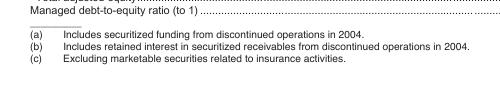table: (29, 29, 468, 63)
table column: (51, 29, 468, 63), (29, 29, 51, 63)
table row: (29, 40, 468, 52), (29, 29, 468, 40), (29, 52, 468, 63)
